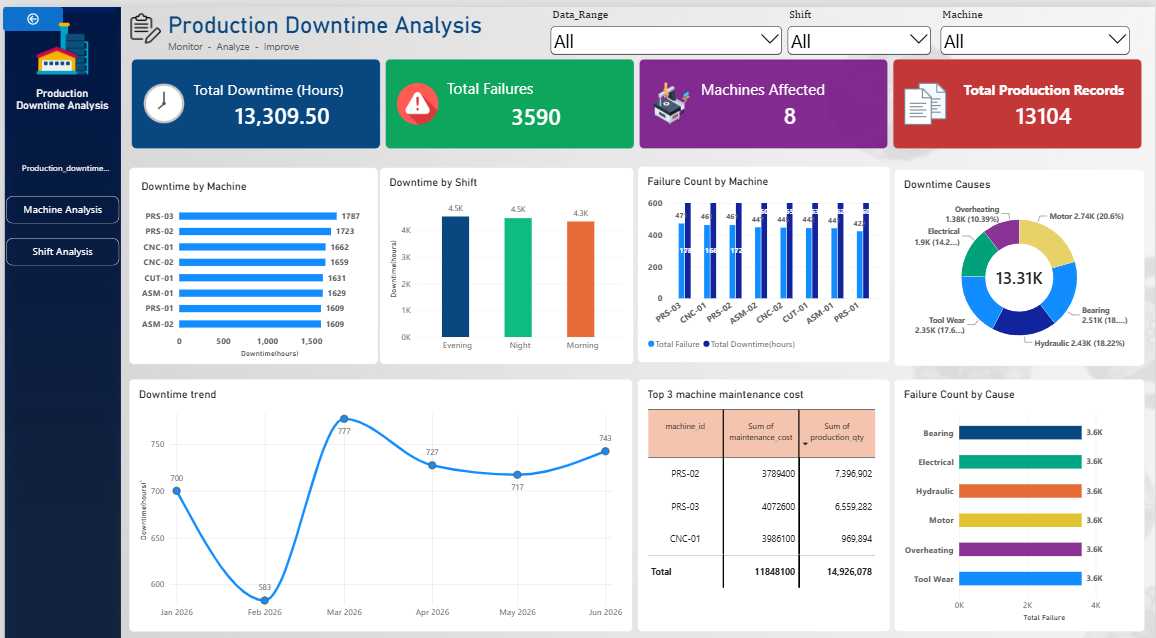

Layout of this report page (visuals, bound fields, positions):
{"tool":"powerbi","page":{"name":"Production_downtime anlysis","canvas":[1920,1080],"ordinal":0},"visuals":[{"type":"cardVisual","title":"fgggn","fields":{"Data":["production_downtim_data.Total Downtime(hours)","production_downtim_data.Total Failure","production_downtim_data.Machines Affected","production_downtim_data.Total Production Records"]},"box":[209.1,82,1693,158.3],"z":0},{"type":"barChart","title":"Downtime by Machine","fields":{"Category":["production_downtim_data.machine_id"],"Y":["Sum(production_downtim_data.downtime_hours)"]},"box":[209.1,268.5,415.5,327.9],"z":1000},{"type":"columnChart","title":"Downtime by Shift","fields":{"Category":["production_downtim_data.shift"],"Y":["Sum(production_downtim_data.downtime_hours)"]},"box":[627.4,268.5,423.9,327.9],"z":2000},{"type":"clusteredBarChart","title":"Failure Count by Machine","fields":{"Category":["production_downtim_data.machine_id"],"Y":["production_downtim_data.Total Failure"]},"box":[1057,265.7,421.1,327.9],"z":3000},{"type":"donutChart","title":"Downtime Causes","fields":{"Category":["production_downtim_data.failure_type"],"Y":["Sum(production_downtim_data.downtime_hours)"]},"box":[1484.4,268.9,418.2,328.6],"z":4000},{"type":"lineChart","title":"Downtime trend","fields":{"Category":["production_downtim_data.date.Variation.Date Hierarchy.Year","production_downtim_data.date.Variation.Date Hierarchy.Month"],"Y":["Sum(production_downtim_data.downtime_hours)"]},"box":[209.1,619,839.4,421.1],"z":5000},{"type":"tableEx","title":"Top 3 machine maintenance cost ","fields":{"Values":["production_downtim_data.machine_id","Sum(production_downtim_data.maintenance_cost)","Sum(production_downtim_data.production_qty)"]},"box":[1057,619,421.1,421.1],"z":6000},{"type":"actionButton","box":[0,0,100,40],"z":7000},{"type":"clusteredBarChart","title":"Failure Count by Cause","fields":{"Category":["production_downtim_data.failure_type"],"Y":["production_downtim_data.Total Failure"]},"box":[1483.8,619,418.3,421.1],"z":8000},{"type":"image","box":[16.1,20.7,167.7,98.8],"z":9000},{"type":"textbox","title":"Production Downtime Analysis","box":[16.1,133.3,167.7,55.1],"z":10000},{"type":"textbox","title":"Production Downtime Analysis","box":[275.7,6.9,1024.9,66.6],"z":11000},{"type":"image","box":[213.7,0,50.6,71.2],"z":12000},{"type":"textbox","box":[16.1,268.9,167.7,36.8],"z":13000},{"type":"slicer","fields":{"Values":["production_downtim_data.shift"]},"box":[1302.9,2.8,248.7,101.7],"z":15000},{"type":"slicer","fields":{"Values":["production_downtim_data.date (bins)"]},"box":[907.2,2.8,395.7,101.7],"z":16000},{"type":"slicer","fields":{"Values":["production_downtim_data.machine_id"]},"box":[1557.3,2.8,325,101.7],"z":17000},{"type":"pageNavigator","box":[5.7,245.9,189.4,186.5],"z":18001}]}

Visuals, with their boxes on the page's 1920x1080 design canvas (x1, y1, x2, y2). These are canvas units, not pixel positions in the 1156x638 screenshot, which may show the page scaled, cropped or inside an application window:
"fgggn" cardVisual: box=[209, 82, 1902, 240]
"Downtime by Machine" barChart: box=[209, 268, 625, 596]
"Downtime by Shift" columnChart: box=[627, 268, 1051, 596]
"Failure Count by Machine" clusteredBarChart: box=[1057, 266, 1478, 594]
"Downtime Causes" donutChart: box=[1484, 269, 1903, 598]
"Downtime trend" lineChart: box=[209, 619, 1048, 1040]
"Top 3 machine maintenance cost " tableEx: box=[1057, 619, 1478, 1040]
actionButton: box=[0, 0, 100, 40]
"Failure Count by Cause" clusteredBarChart: box=[1484, 619, 1902, 1040]
image: box=[16, 21, 184, 120]
"Production Downtime Analysis" textbox: box=[16, 133, 184, 188]
"Production Downtime Analysis" textbox: box=[276, 7, 1301, 74]
image: box=[214, 0, 264, 71]
textbox: box=[16, 269, 184, 306]
slicer - production_downtim_data.shift: box=[1303, 3, 1552, 104]
slicer - production_downtim_data.date (bins): box=[907, 3, 1303, 104]
slicer - production_downtim_data.machine_id: box=[1557, 3, 1882, 104]
pageNavigator: box=[6, 246, 195, 432]
